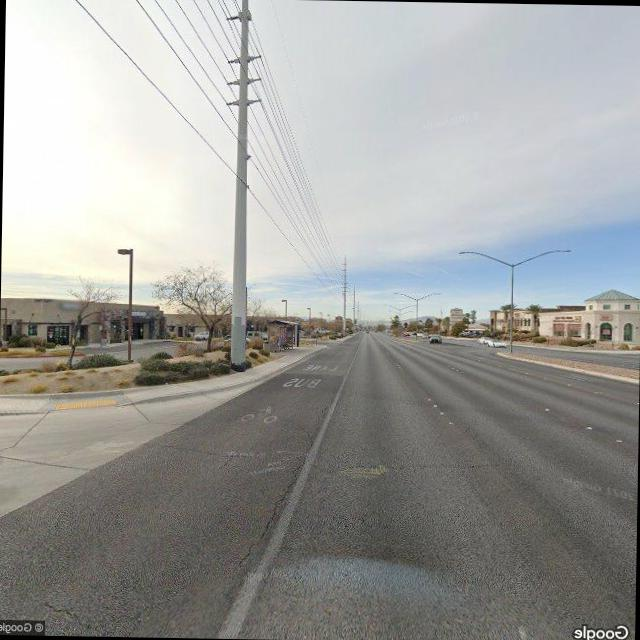crack: (241, 433, 319, 567)
